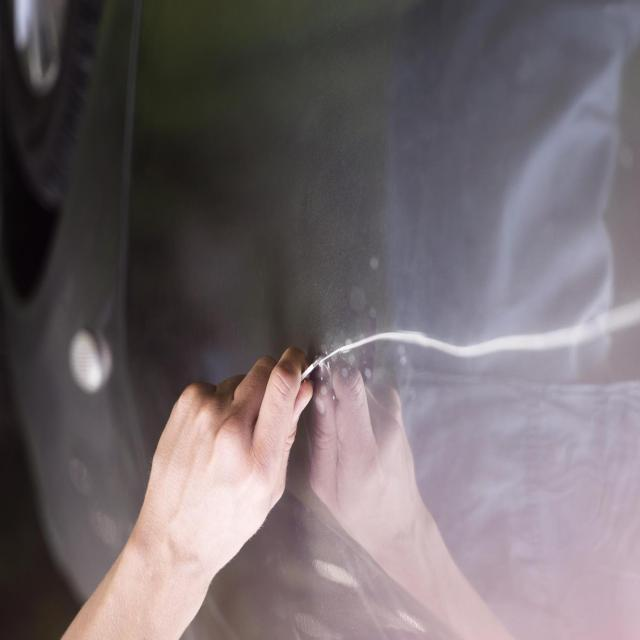scratch: (320, 320, 640, 370)
